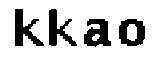a: (82, 14, 112, 50)
k: (10, 5, 43, 50), (48, 5, 78, 50)
o: (117, 15, 149, 49)
